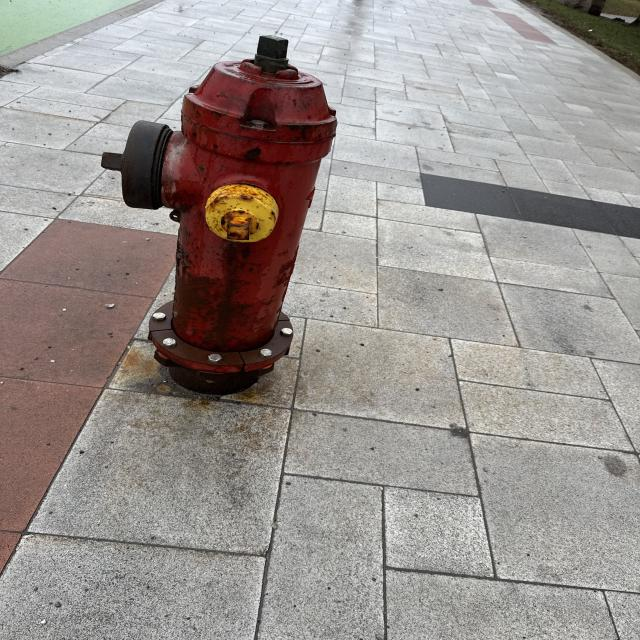Fire hydrant: (101, 35, 338, 395)
